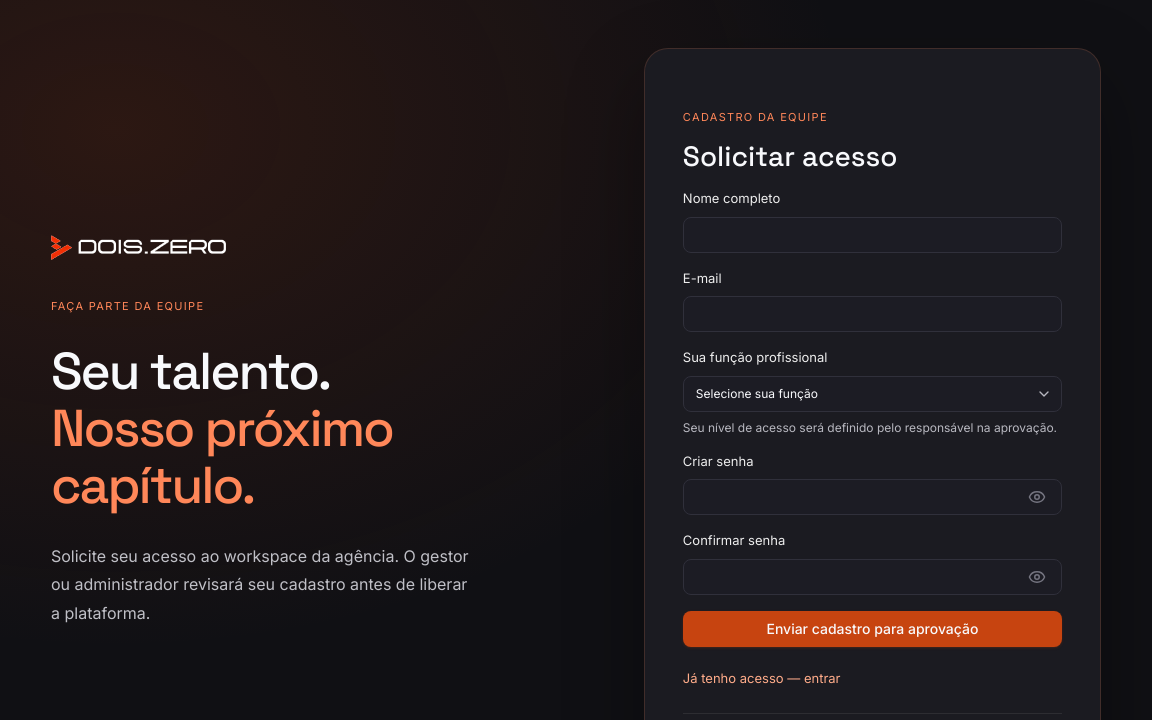
Test: Team registration › submits only professional description and displays pending approval without granting a session
Type "Profissional Teste" into the field labelled "Nome completo" at (872, 235), box x1=683 y1=217 x2=1062 y2=253
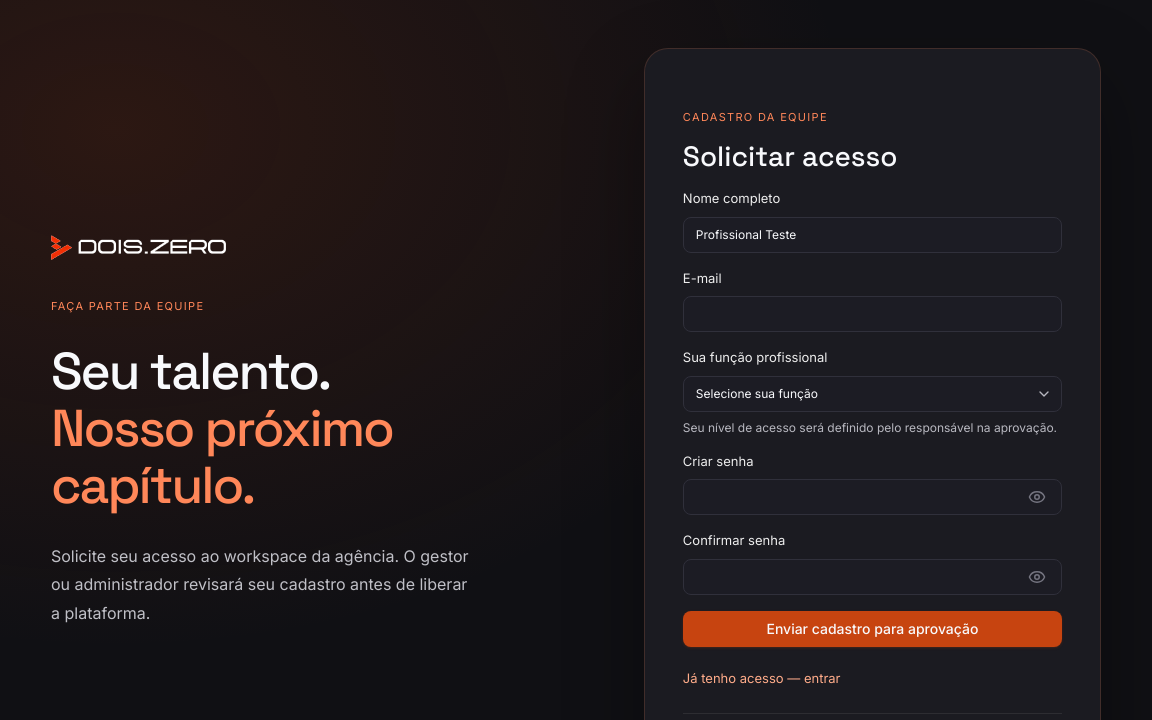
Type "test@example.com" into the field labelled "E-mail" at (872, 314), box x1=683 y1=296 x2=1062 y2=332
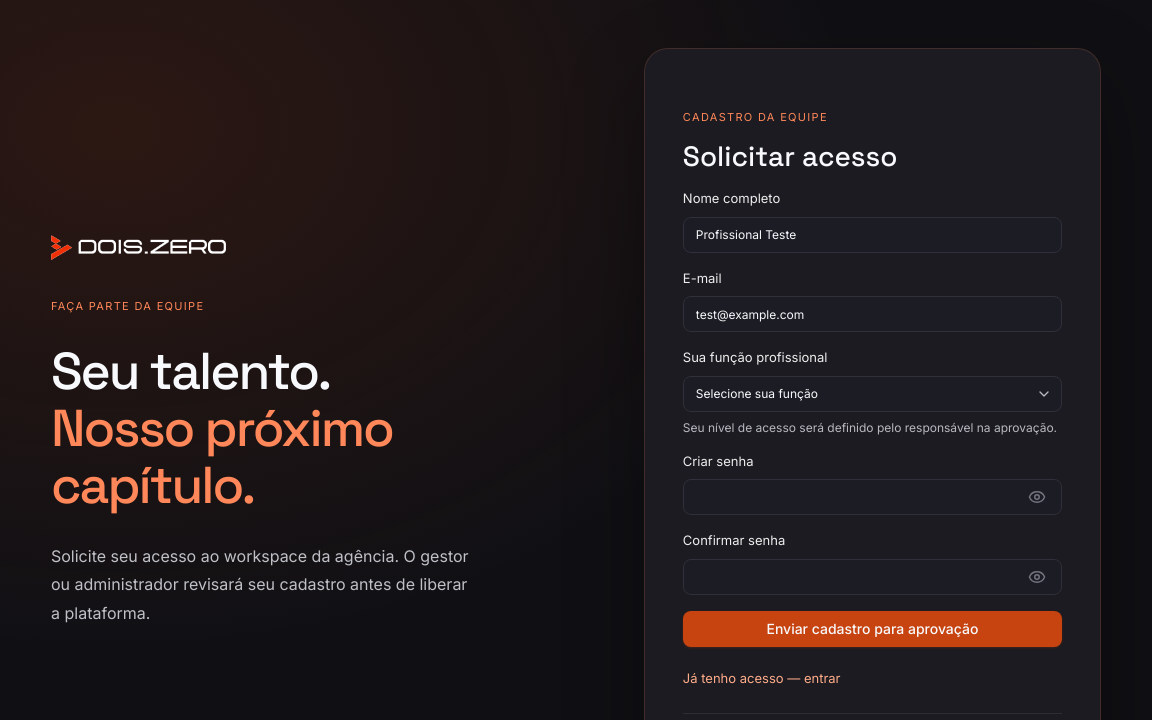
Select "Designer" in the dropdown labelled "Sua função profissional" at (872, 394), box x1=683 y1=376 x2=1062 y2=412
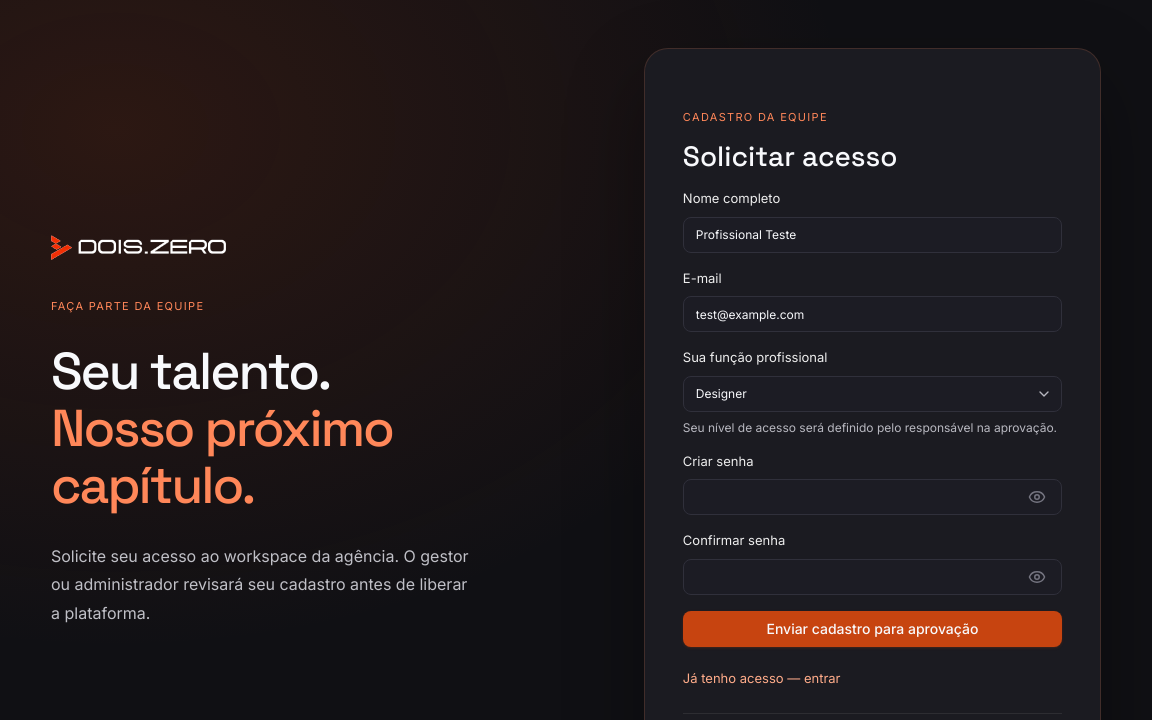
Type "test-password" into the password field labelled "Criar senha" at (872, 497), box x1=683 y1=479 x2=1062 y2=515
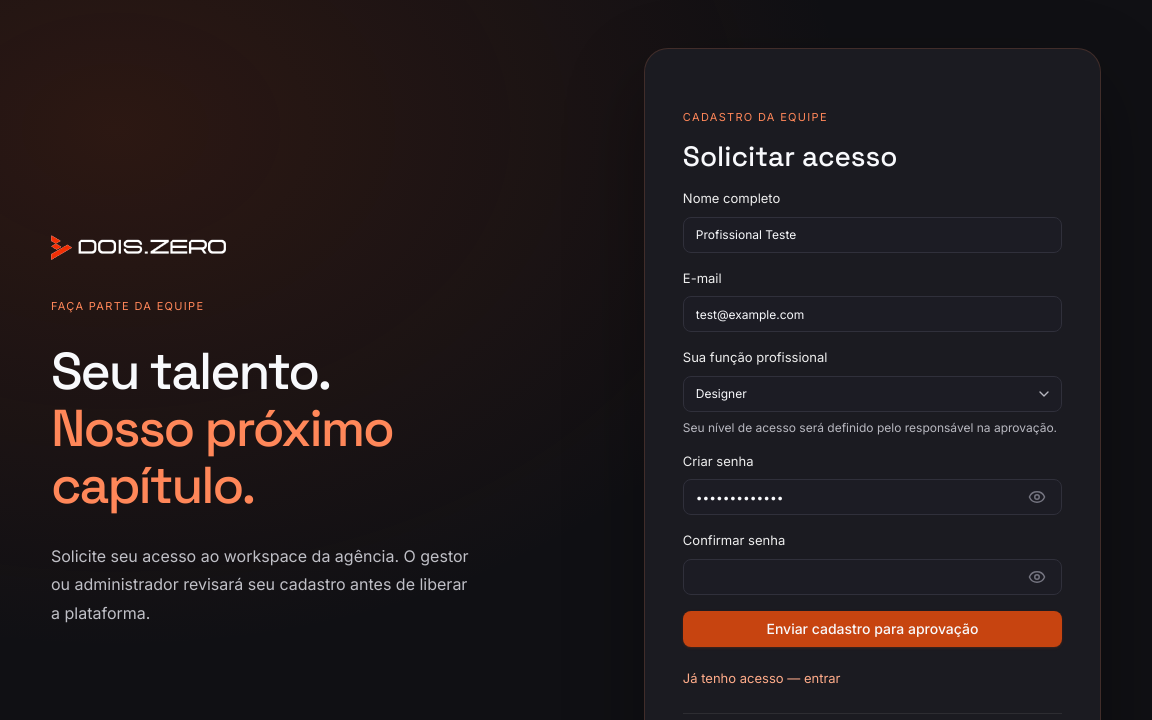
Type "test-password" into the password field labelled "Confirmar senha" at (872, 577), box x1=683 y1=559 x2=1062 y2=595
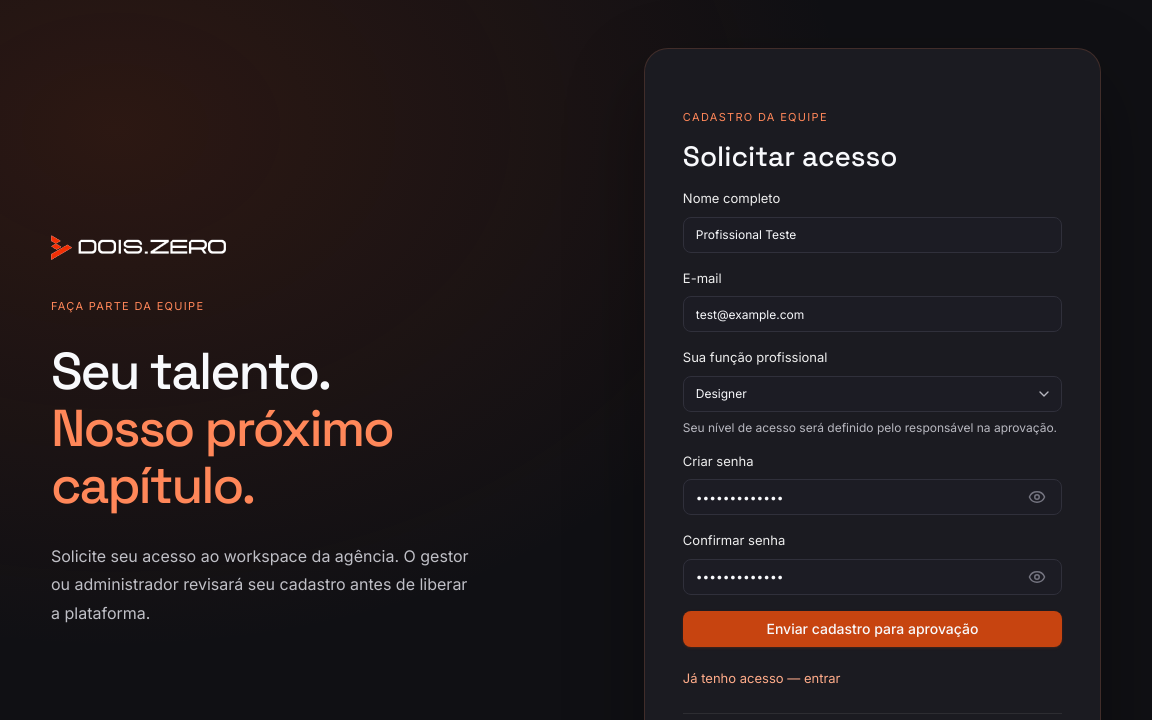
Click the button "Enviar cadastro para aprovação" at (872, 629), box x1=683 y1=611 x2=1062 y2=647
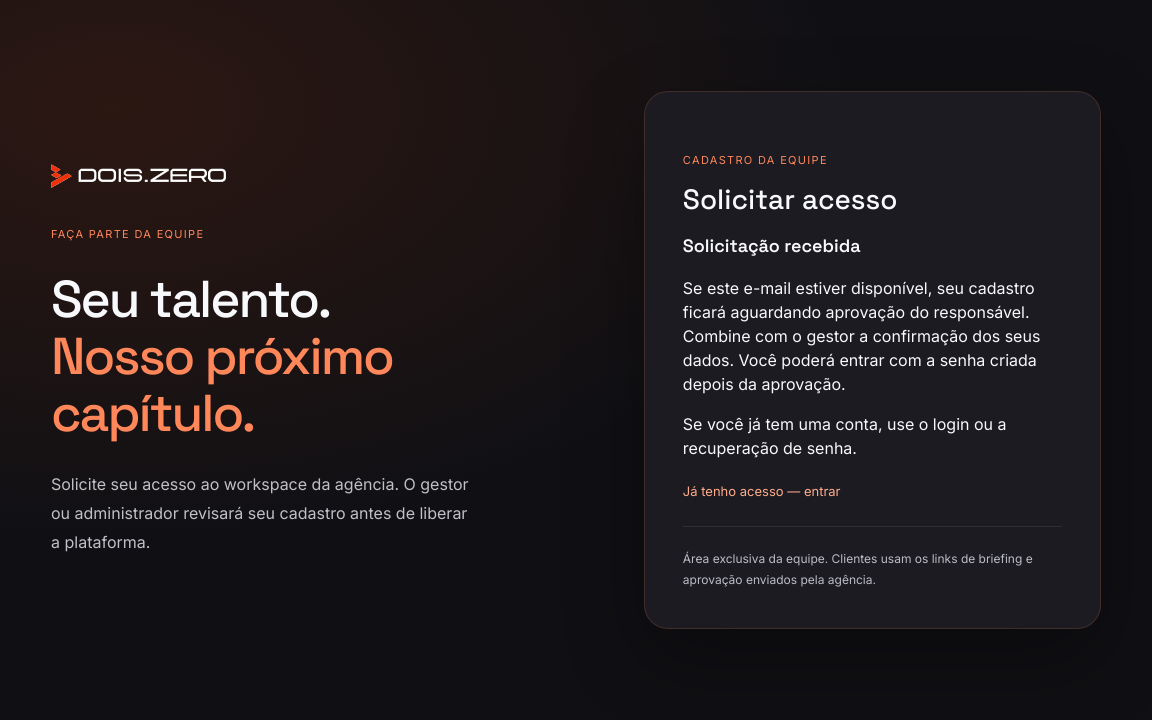
expect the heading "Solicitação recebida" is shown: met, box x1=683 y1=234 x2=861 y2=257
expect the text "aguardando aprovação" is shown: met, box x1=683 y1=278 x2=1040 y2=394
